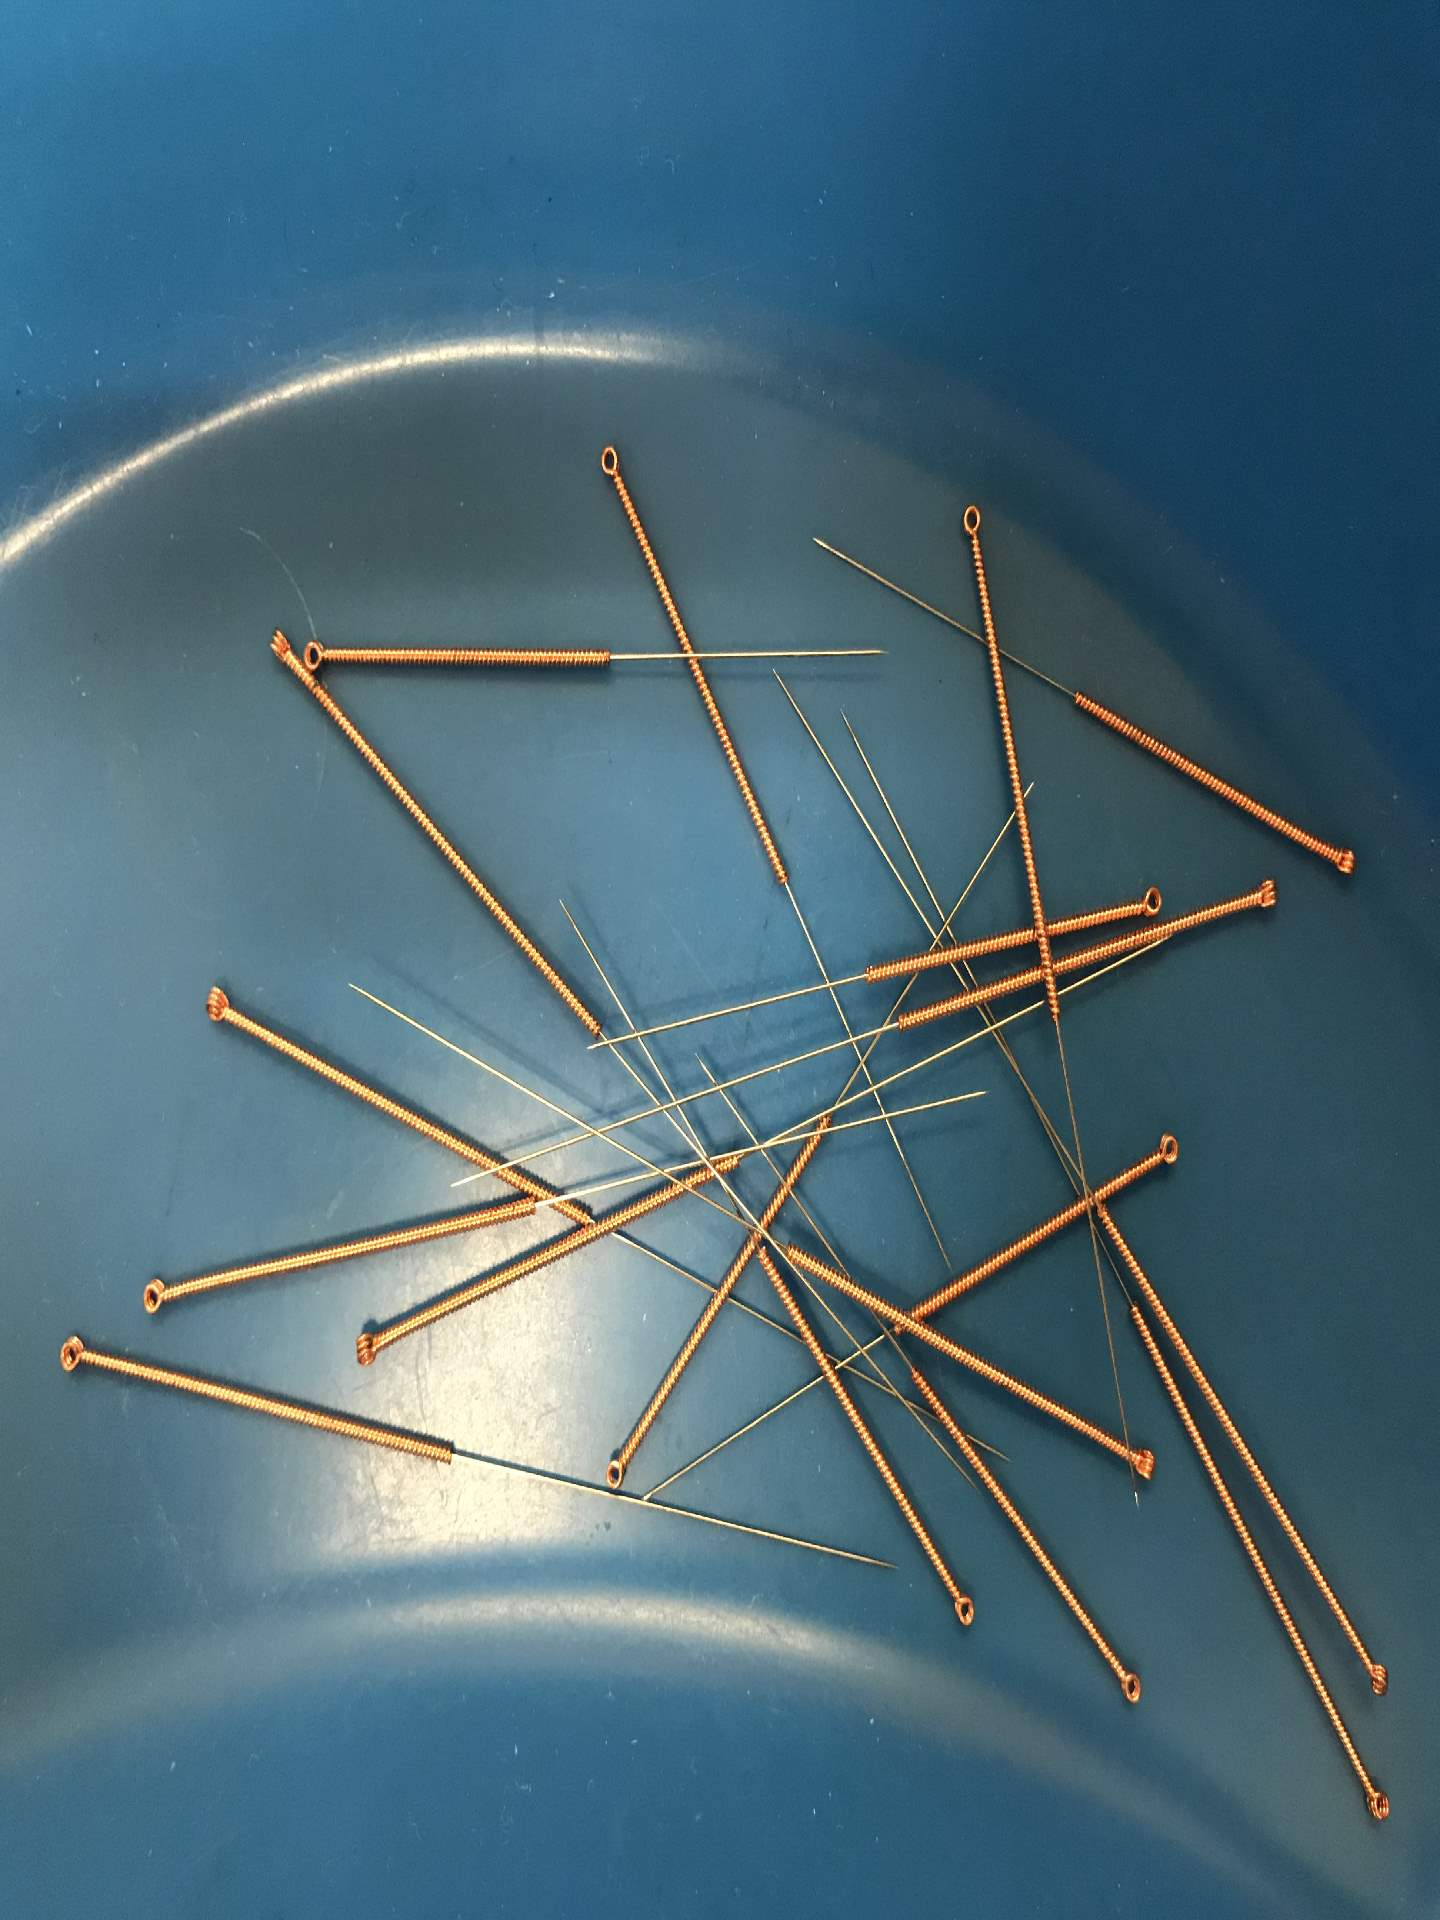needle: (41, 1321, 104, 1388), (126, 1268, 189, 1323), (1103, 1652, 1157, 1716), (1118, 1429, 1171, 1494), (1354, 1770, 1401, 1838), (585, 429, 634, 494), (1355, 1646, 1404, 1710), (343, 1315, 393, 1376), (1317, 831, 1366, 890), (191, 978, 244, 1031), (948, 488, 994, 549), (1239, 868, 1290, 921), (942, 1574, 985, 1634), (1144, 1122, 1189, 1176), (1119, 880, 1172, 924), (256, 615, 295, 665), (601, 1436, 634, 1492), (299, 629, 340, 674)
